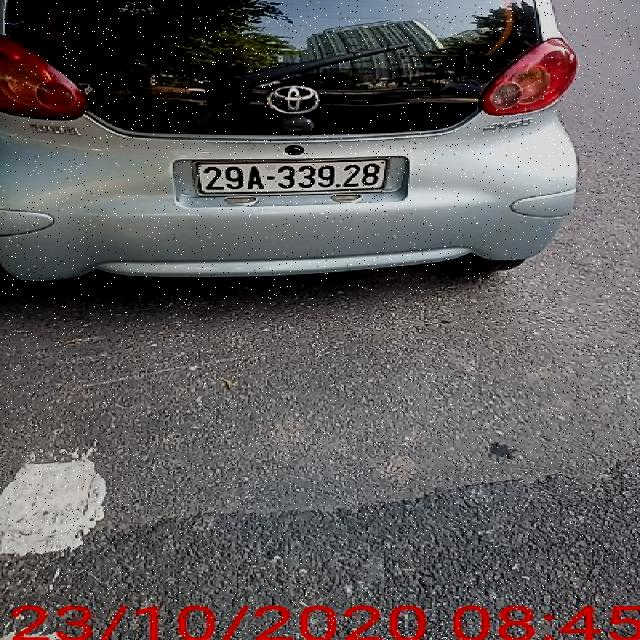2: (202, 165, 225, 191), (342, 162, 362, 188)
3: (276, 166, 296, 190), (297, 164, 316, 189)
8: (361, 163, 383, 186)
9: (316, 163, 338, 188), (224, 166, 246, 190)
A: (245, 165, 268, 190)
